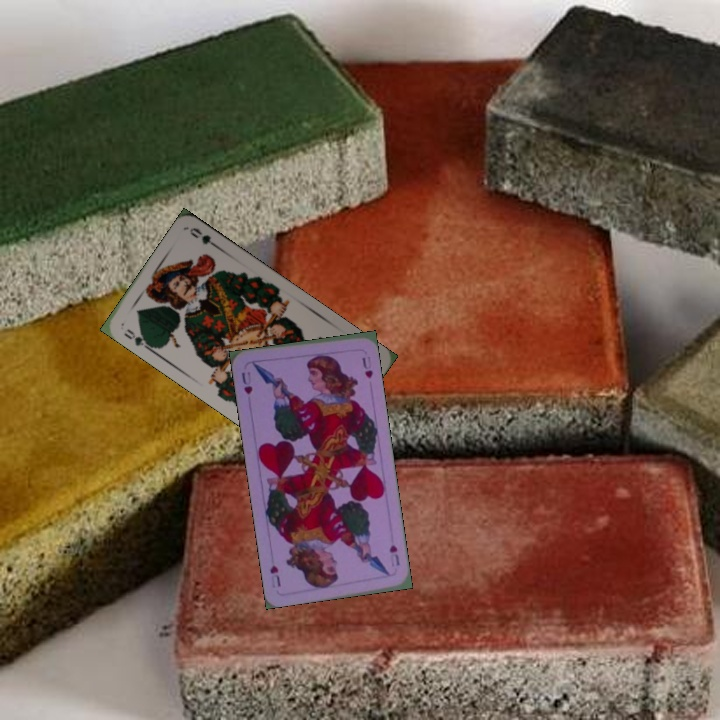GO: (120, 325, 155, 353)
HU: (237, 368, 255, 397), (385, 540, 403, 569)
